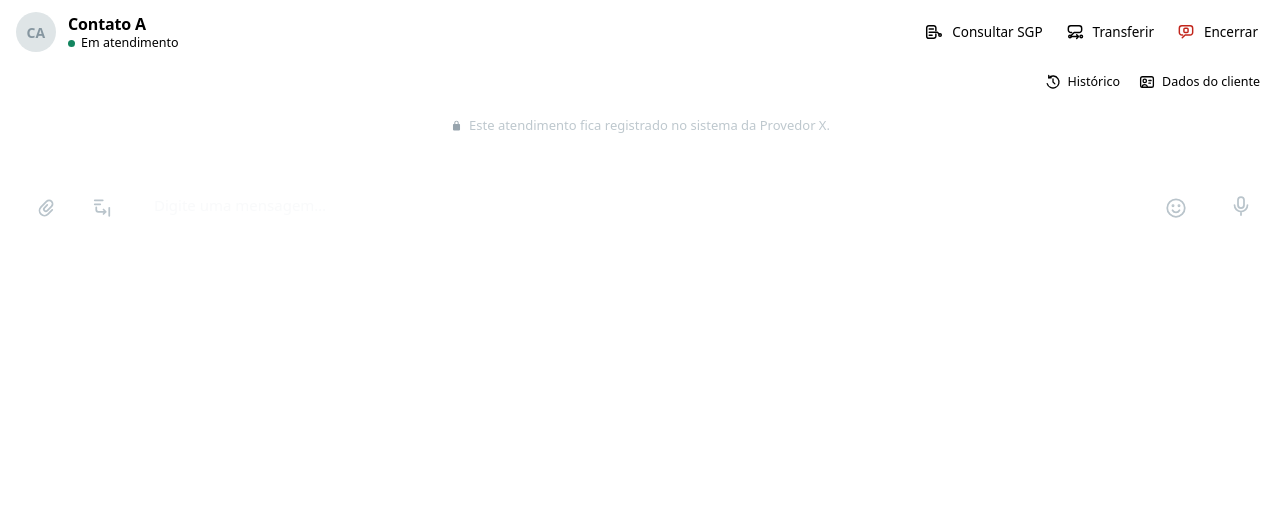
Scenario: Dados do cliente na mesa › abrir Dados fecha o SGP, e abrir o SGP fecha Dados
What coordinates should you click on to do the following:
click the button "Consultar SGP"
I would click on:
 (983, 32)
Its box is left=914, top=12, right=1053, bottom=52.
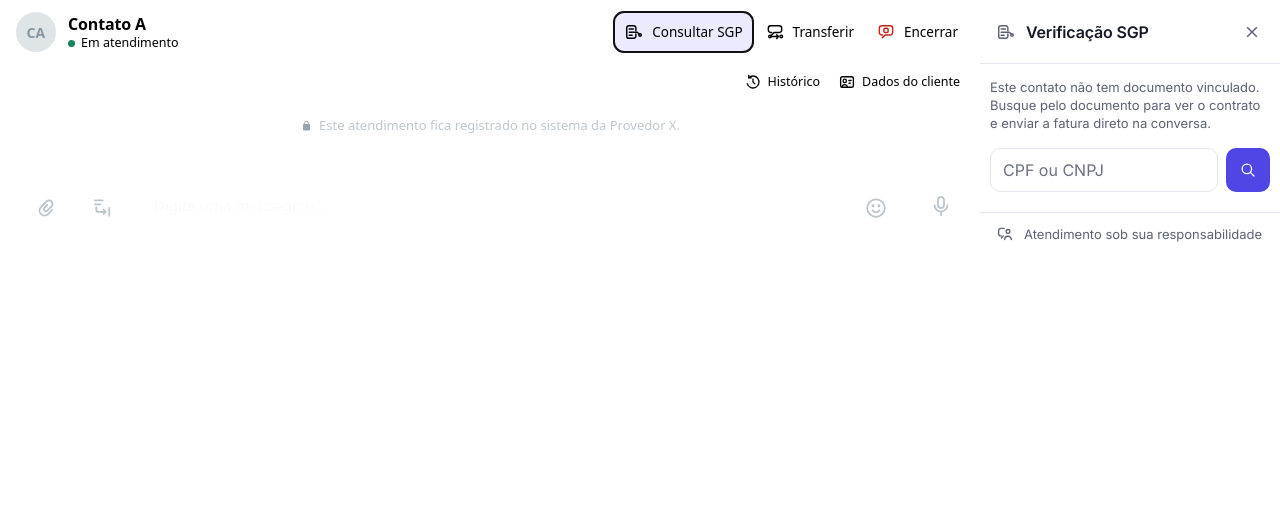
Now the element named "Consulta SGP" is shown, box left=980, top=0, right=1279, bottom=255
What coordinates should you click on to do the following:
click the button "Dados do cliente"
I would click on:
 (899, 82)
Its box is left=830, top=66, right=968, bottom=98.
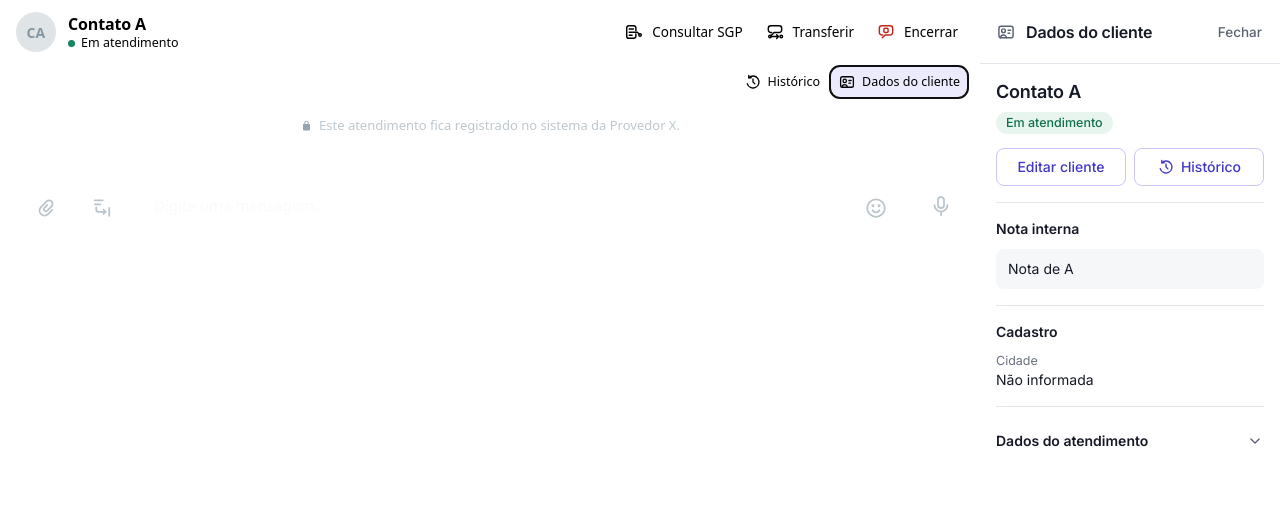
Now the element "Dados do cliente" is shown, box left=980, top=0, right=1279, bottom=493
Now the button "Consulta SGP" is gone
What coordinates should you click on to do the following:
click the button "Consultar SGP"
I would click on:
 (683, 32)
Its box is left=614, top=12, right=753, bottom=52.
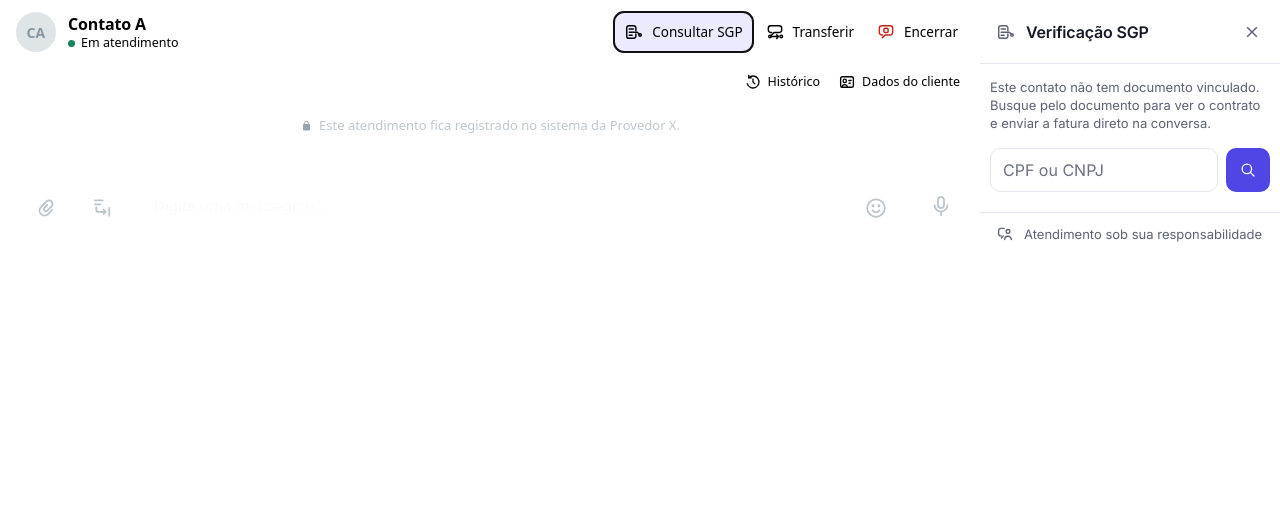
Now the element named "Consulta SGP" is shown, box left=980, top=0, right=1279, bottom=255
